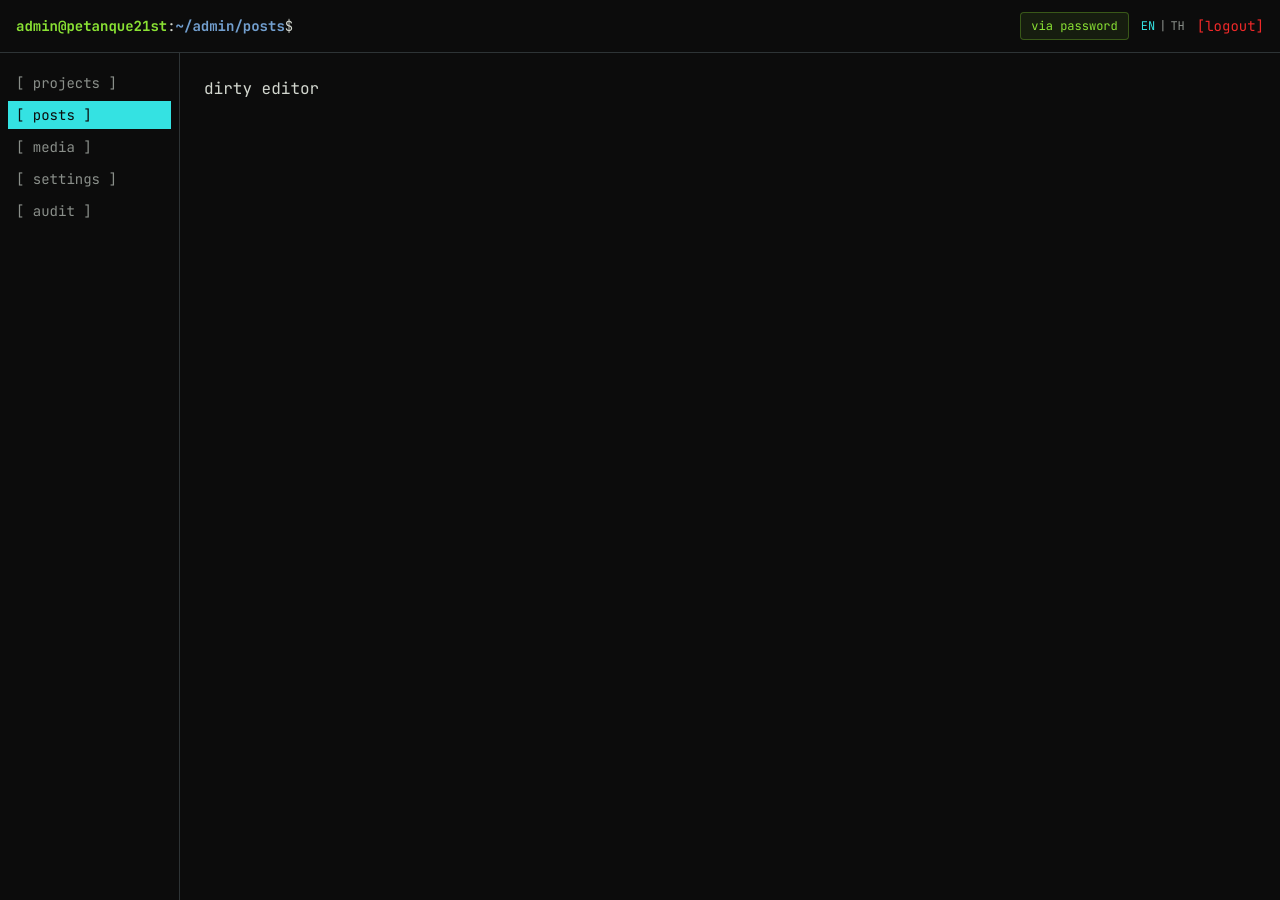
Test: asks before leaving a dirty editor through the sidebar
Click the link "[ projects ]" at (66, 83), box [16,74,117,92]
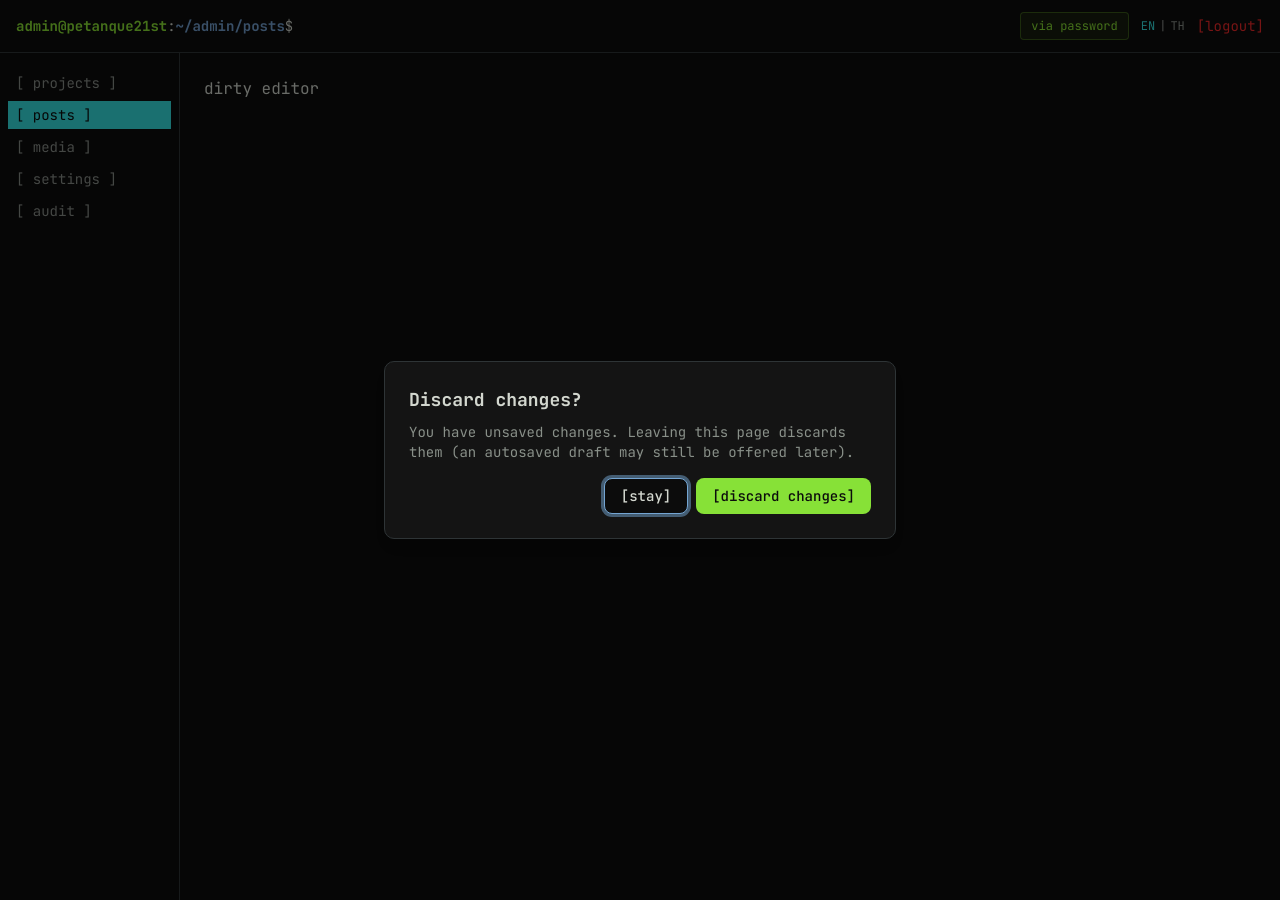
Check: the dialog is shown, box [384,361,896,539]
Click the button "[stay]" at (646, 496), box [604,478,688,514]
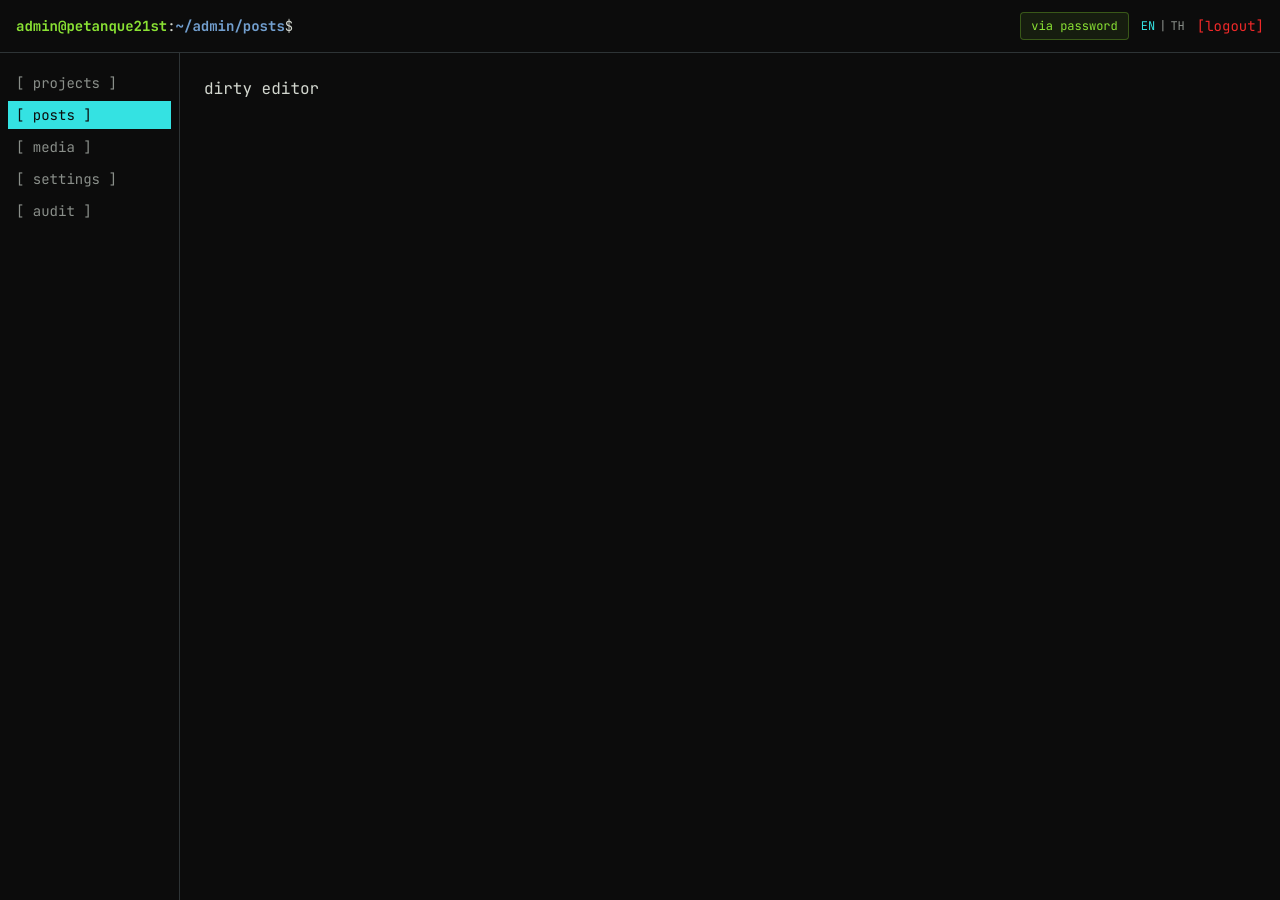
Check: the text "dirty editor" is shown, box [204,78,319,99]
Click the link "[ projects ]" at (66, 83), box [16,74,117,92]
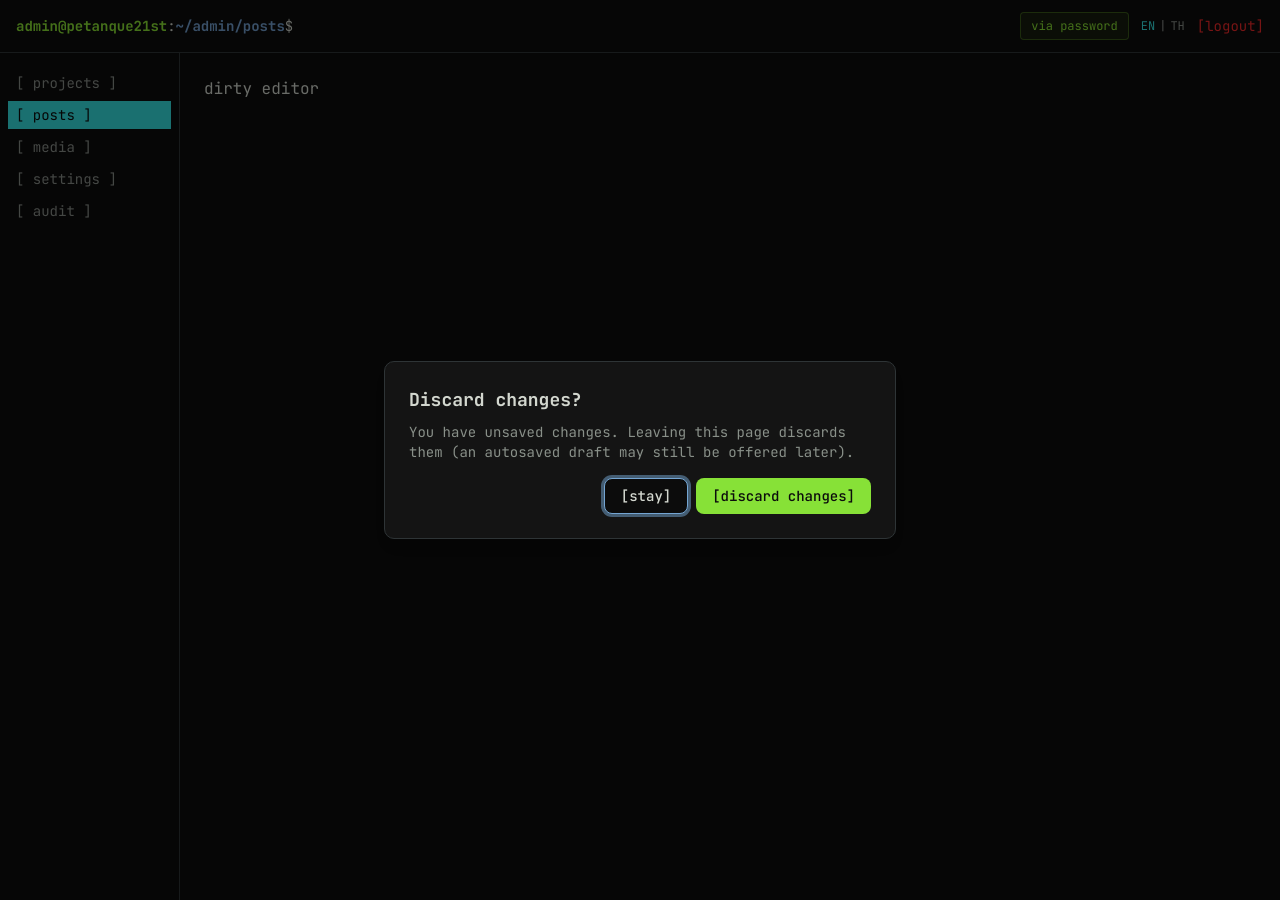
Click the button "[discard changes]" at (784, 496), box [696,478,871,514]
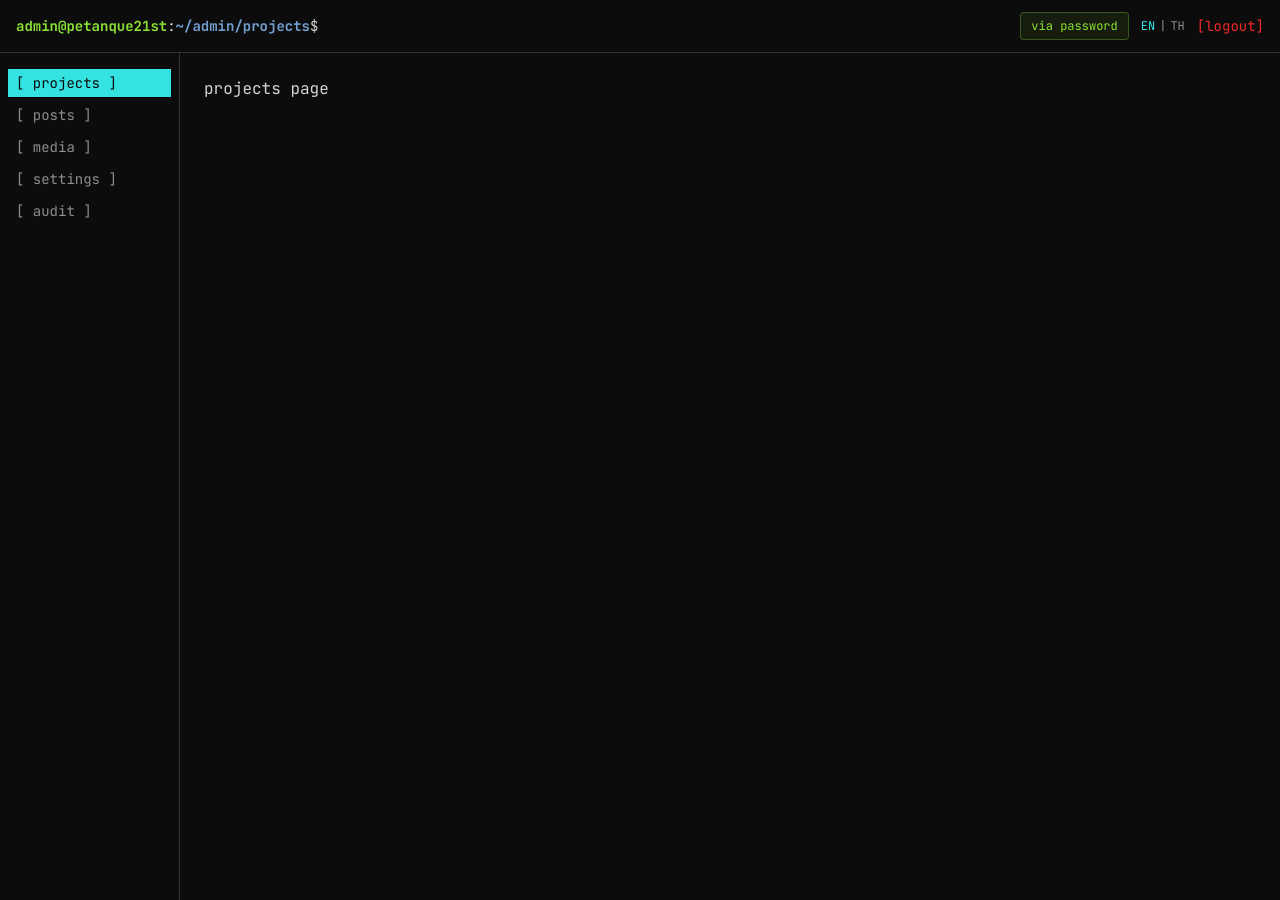
Check: the text "projects page" is shown, box [204,78,329,99]
